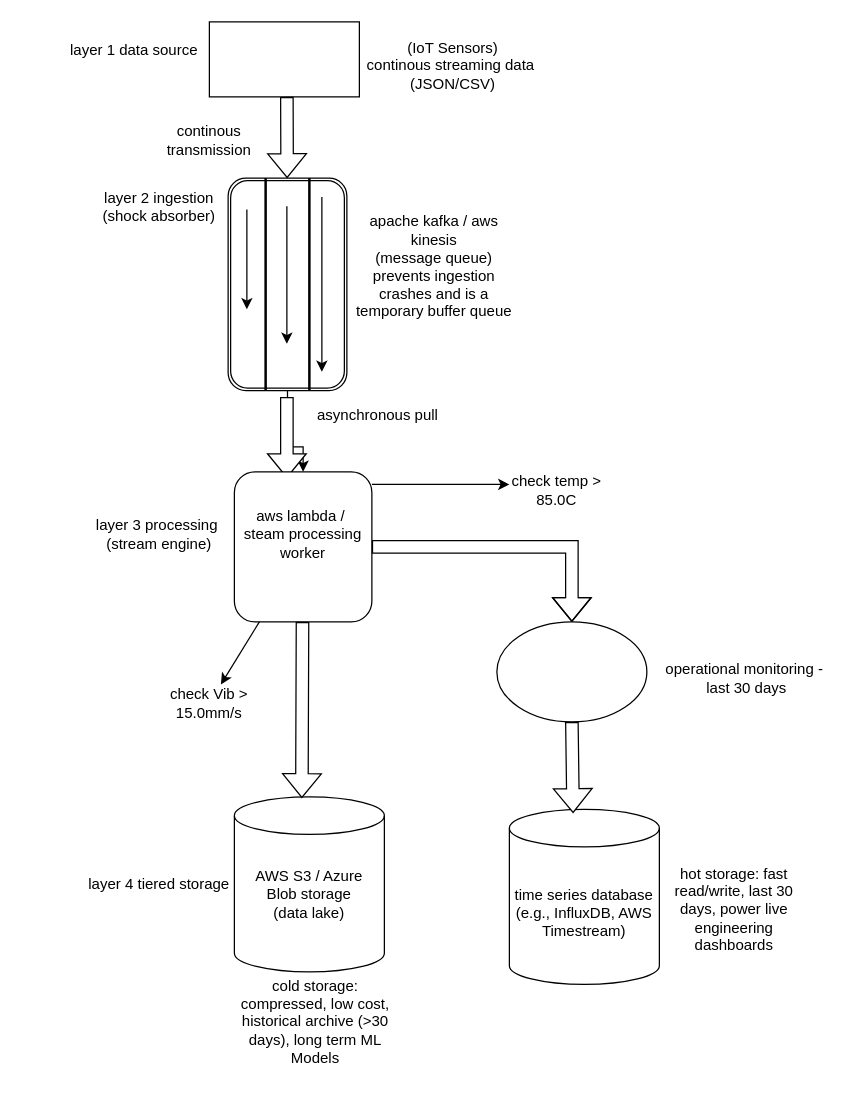
Image size: 855x1100. Some labels were removed from this diagram. Each missing label, with the box of its shape:
offshore Wind Turbines: (208, 21, 359, 97)
operational dashboard / alert system: (496, 621, 647, 722)
